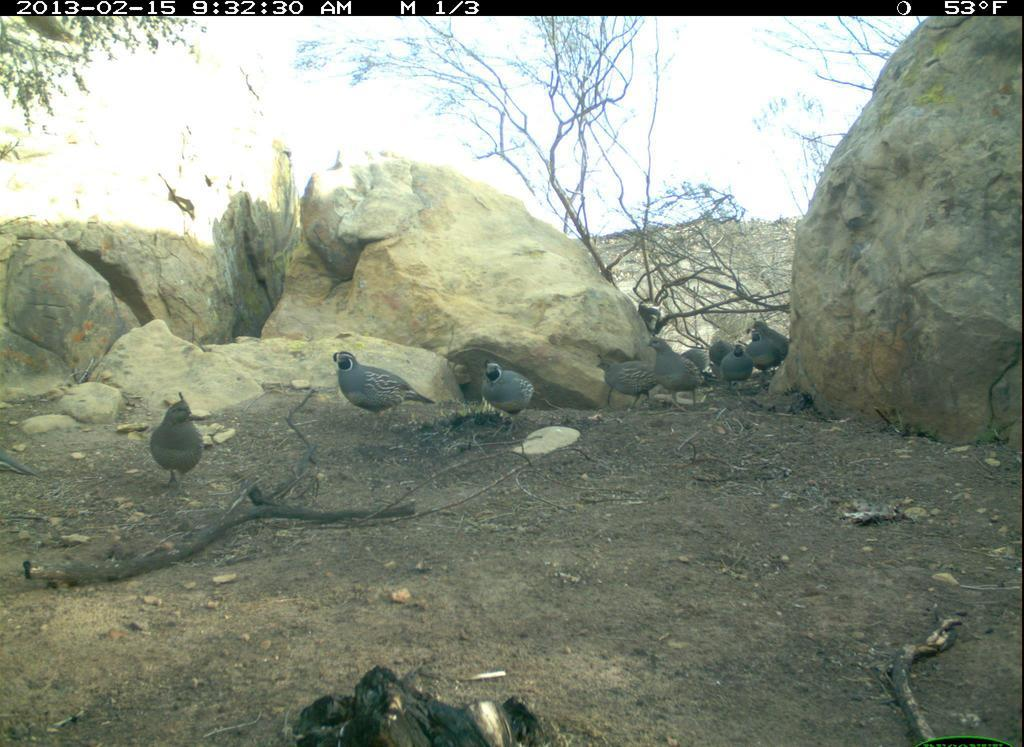bird: (751, 315, 793, 368)
